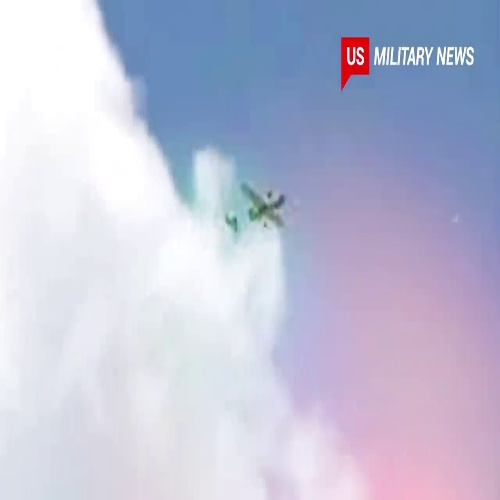uav583: (222, 176, 292, 237)
